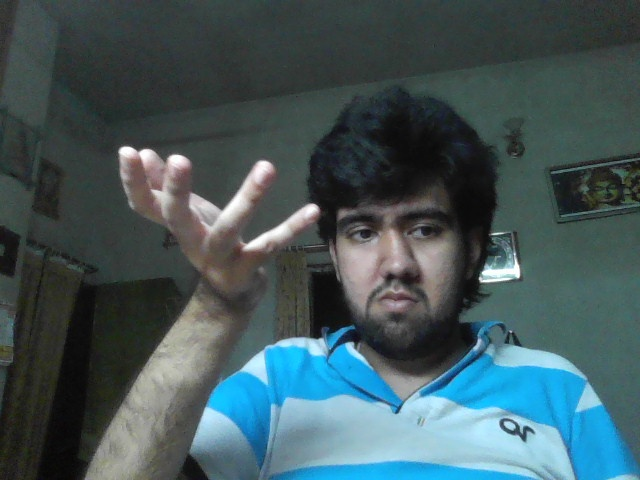What: (119, 145, 321, 302)
